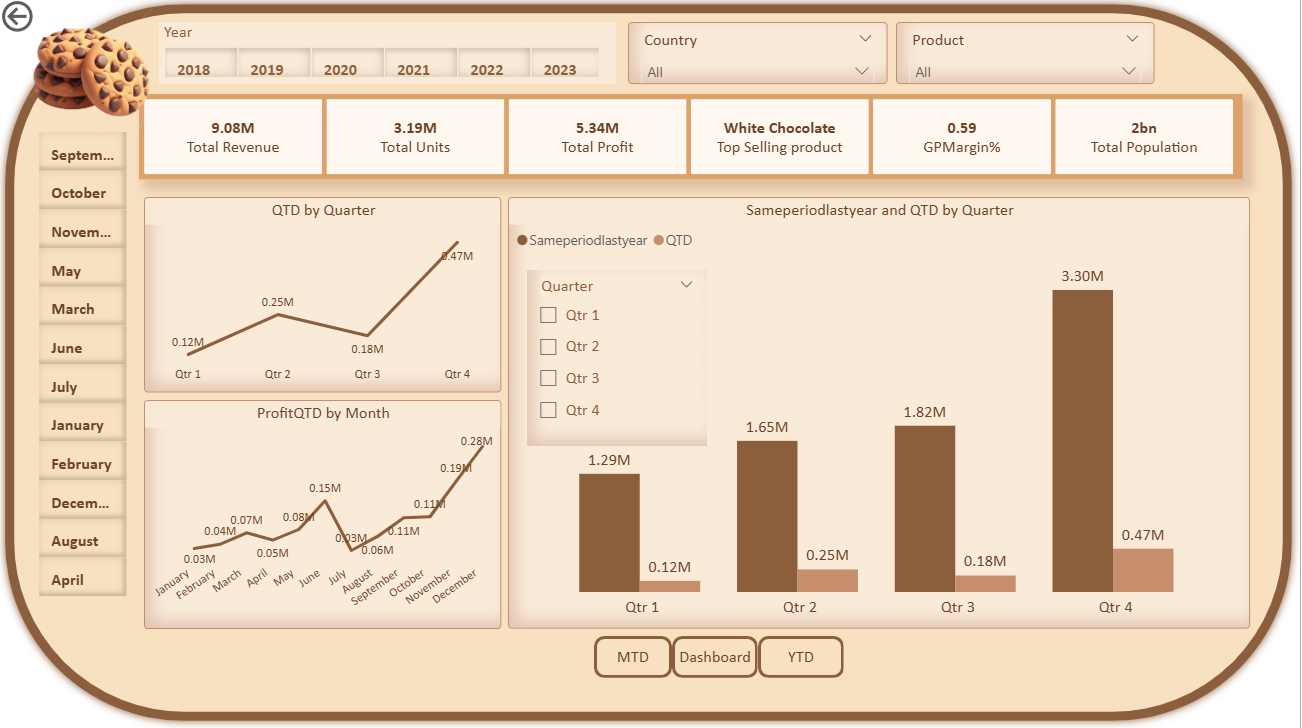

Layout of this report page (visuals, bound fields, positions):
{"tool":"powerbi","page":{"name":"QTD PROFIT AND REVENEW","canvas":[1280,720],"ordinal":2},"visuals":[{"type":"shape","box":[0,0,1280,720.1],"z":0},{"type":"clusteredColumnChart","fields":{"Y":["CookieSales.Sameperiodlastyear","CookieSales.QTD"],"Category":["Test.Date.Variation.Date Hierarchy.Quarter"]},"box":[502,197.5,728.9,424.4],"z":1000},{"type":"advancedSlicerVisual","fields":{"Values":["Test.Month Name"]},"box":[36.3,128.7,96.3,469.6],"z":2000},{"type":"slicer","fields":{"Values":["CookieSales.Product"]},"box":[883.1,25.5,254.4,60.9],"z":3000},{"type":"slicer","fields":{"Values":["CookieSales.Country"]},"box":[619.9,25.5,255.4,60.9],"z":4000},{"type":"cardVisual","fields":{"Data":["CookieSales.Total Revenue","CookieSales.Total Units","CookieSales.TotalProfit","CookieSales.Best Cookie by Revenue","CookieSales.GPMargin%","CookieSales.Total Population"]},"box":[139.5,96.3,1083.5,84.5],"z":5000},{"type":"actionButton","box":[663.1,628.7,84.5,41.3],"z":6000},{"type":"actionButton","box":[747.6,628.7,84.5,41.3],"z":7000},{"type":"actionButton","box":[586.5,628.7,76.6,41.3],"z":8000},{"type":"lineChart","fields":{"Y":["CookieSales.ProfitQTD"],"Category":["Test.Date.Variation.Date Hierarchy.Month"]},"box":[144.4,396.9,350.7,225],"z":9000},{"type":"actionButton","box":[0,0,100,40],"z":10000},{"type":"advancedSlicerVisual","fields":{"Values":["Test.Date.Variation.Date Hierarchy.Year"]},"box":[159.1,25.5,448.9,60.9],"z":11000},{"type":"lineChart","fields":{"Category":["Test.Date.Variation.Date Hierarchy.Quarter"],"Y":["CookieSales.QTD"]},"box":[144.5,197.7,351.1,192.4],"z":12000},{"type":"slicer","fields":{"Values":["Test.Date.Variation.Date Hierarchy.Quarter"]},"box":[519.7,268.2,178.8,174.9],"z":13000},{"type":"image","box":[4.9,5.9,151.3,119.8],"z":14000}]}

Visuals, with their boxes in screenshot pixels (x1, y1, x2, y2), scaled from the page's 1280x720 canvas onto the 1302x728 screenshot:
shape: 0/0/1301/727
clusteredColumnChart - CookieSales.Sameperiodlastyear x CookieSales.QTD: 511/200/1252/629
advancedSlicerVisual - Test.Month Name: 37/130/135/605
slicer - CookieSales.Product: 898/26/1157/87
slicer - CookieSales.Country: 631/26/890/87
cardVisual - CookieSales.Total Revenue x CookieSales.Total Units: 142/97/1244/183
actionButton: 674/636/760/677
actionButton: 760/636/846/677
actionButton: 597/636/674/677
lineChart - CookieSales.ProfitQTD x Test.Date.Variation.Date Hierarchy.Month: 147/401/504/629
actionButton: 0/0/102/40
advancedSlicerVisual - Test.Date.Variation.Date Hierarchy.Year: 162/26/618/87
lineChart - Test.Date.Variation.Date Hierarchy.Quarter x CookieSales.QTD: 147/200/504/394
slicer - Test.Date.Variation.Date Hierarchy.Quarter: 529/271/711/448
image: 5/6/159/127
